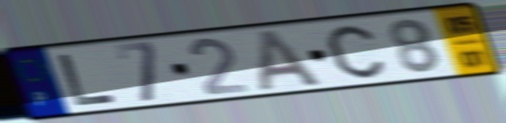2: (186, 35, 255, 97)
7: (111, 39, 160, 106)
8: (387, 17, 443, 74)
A: (255, 27, 326, 94)
C: (324, 23, 388, 81)
L: (54, 51, 121, 108)
